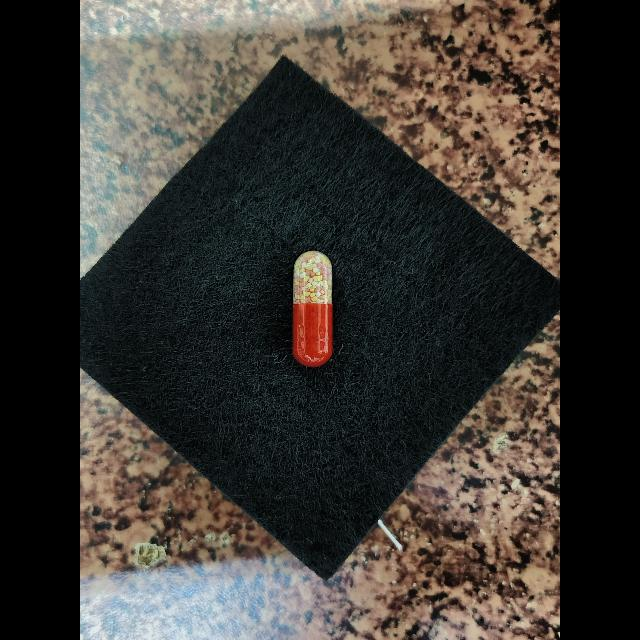Intact Capsule: (293, 250, 333, 367)
